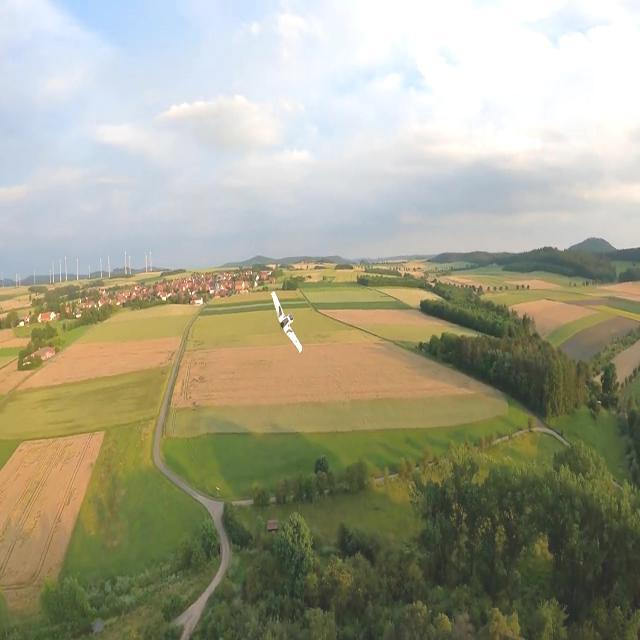iha: (264, 318, 308, 322)
